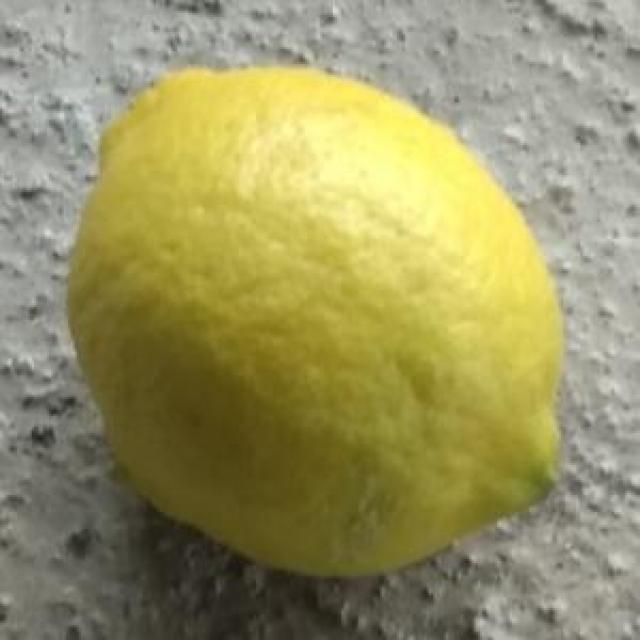lemon: (70, 67, 569, 582)
